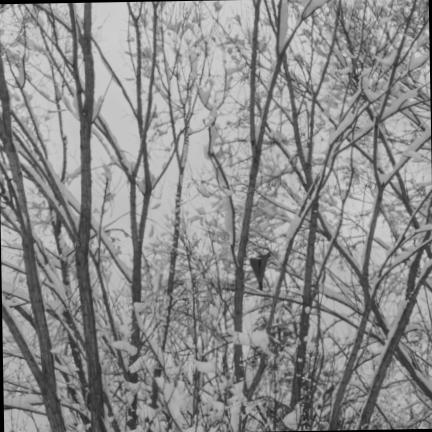Shahed: (250, 252, 270, 289)
